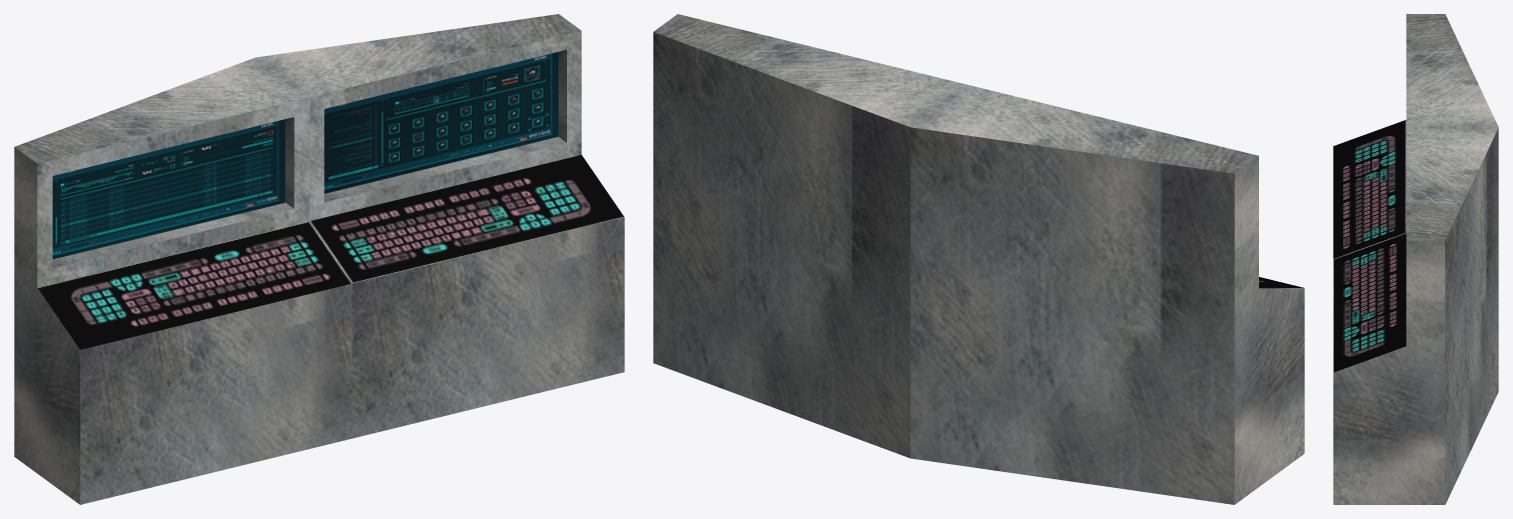
File: Control Panel.fbx
3 renders of one model, left to right at view 1: azimuth 30°, elevation 25°; view 2: azimuth 150°, elevation 25°; view 3: azimuth 270°, elevation 25°, orthographic. The views are drawn at different scales.
Visible parts, largest first — view 1: Contoll Panel; view 2: Contoll Panel; view 3: Contoll Panel.
Boxes of the visible parts, box(x1,y1,x2,y2) form: Contoll Panel: box(14, 14, 624, 504); Contoll Panel: box(653, 14, 1304, 504); Contoll Panel: box(1333, 14, 1498, 504).
Bounding box in the file's own units: 367 × 200 × 113.
